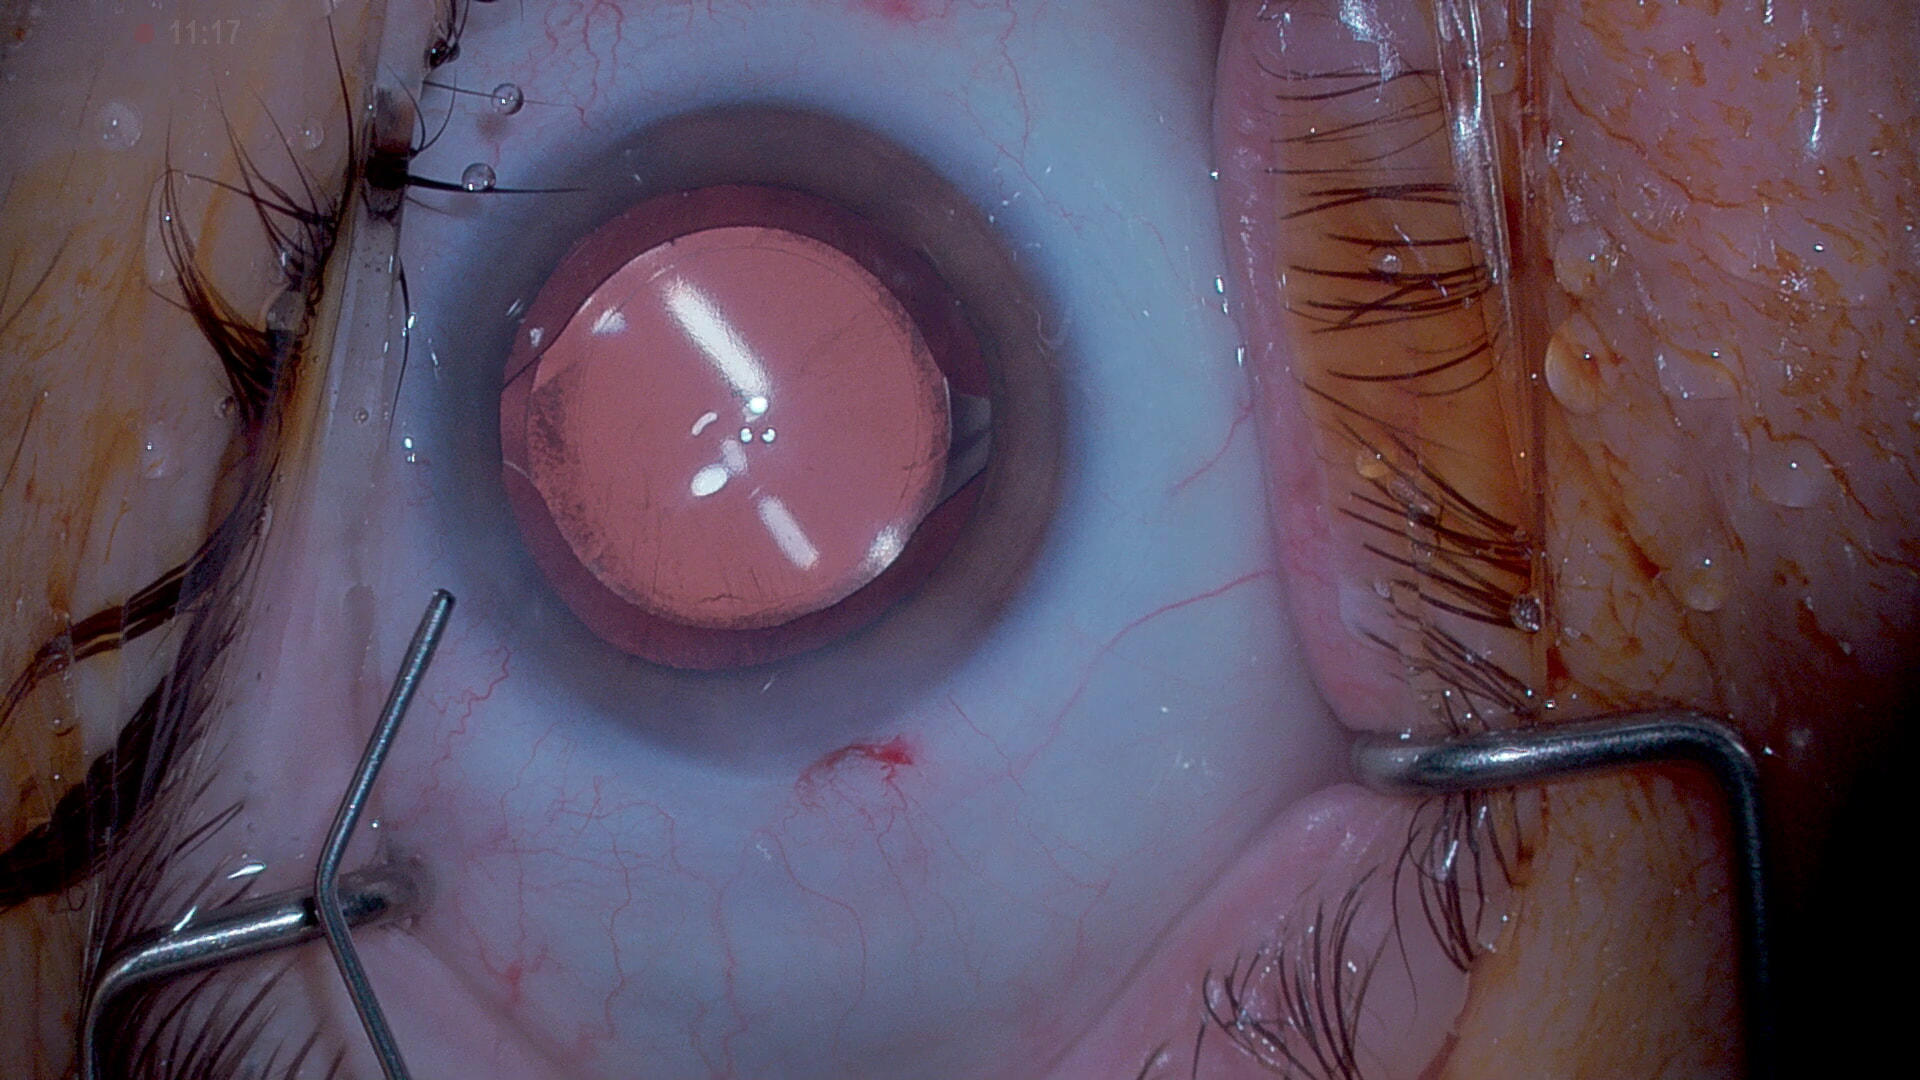iris: (437, 105, 1071, 760)
pupil: (494, 190, 1001, 670)
